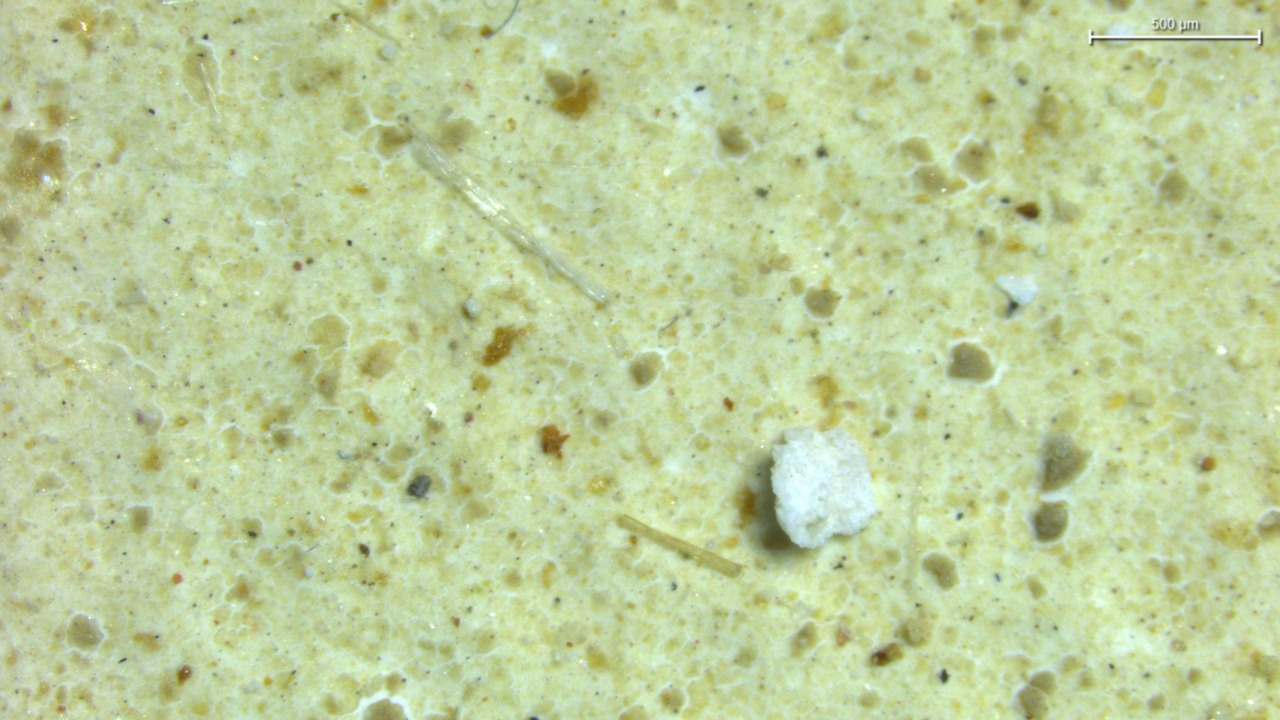microplastic_fragment: (771, 428, 877, 548), (997, 275, 1039, 306)
